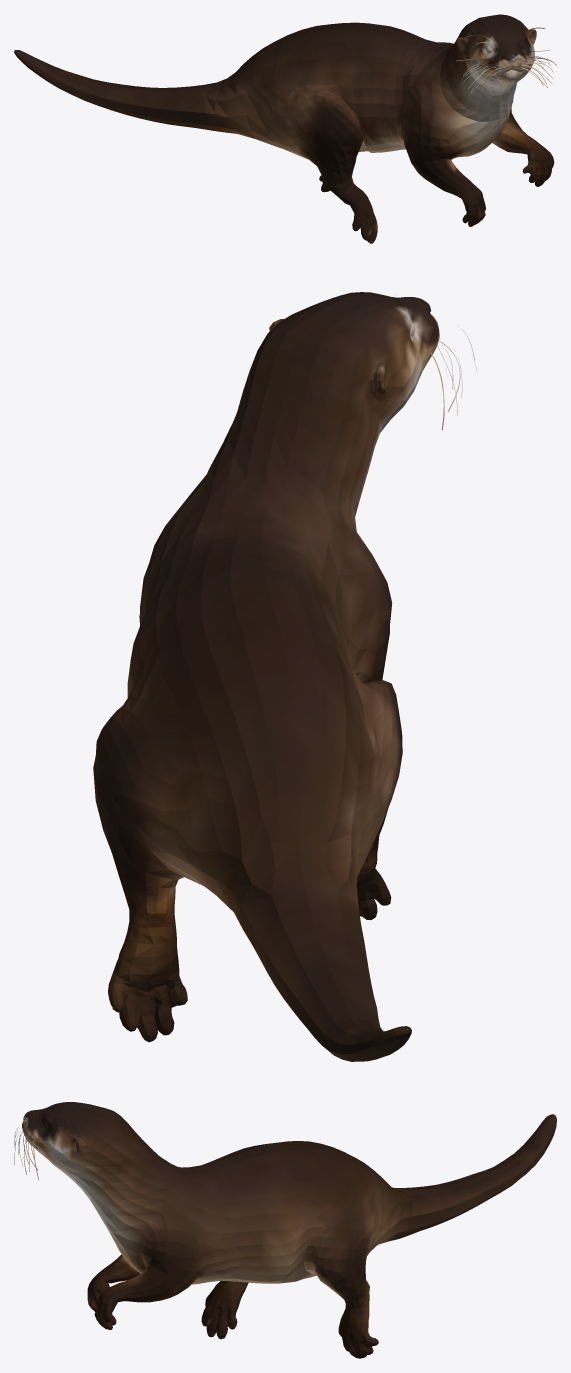
File: otter.mesh.glb
3 views of the same model, one above another, from view 1: azimuth 30°, elevation 25°; view 2: azimuth 150°, elevation 25°; view 3: azimuth 270°, elevation 25° (orthographic). The views are drawn at different scales.
Visible parts, largest first — view 1: root; view 2: root; view 3: root.
Boxes of the visible parts, left/top/right/bottom form: root: left=14, top=14, right=556, bottom=243; root: left=93, top=292, right=476, bottom=1061; root: left=14, top=1102, right=556, bottom=1358.
Size of the model in its own units: 0.4528 by 0.3421 by 0.6231.
1 material, 1 textured.
